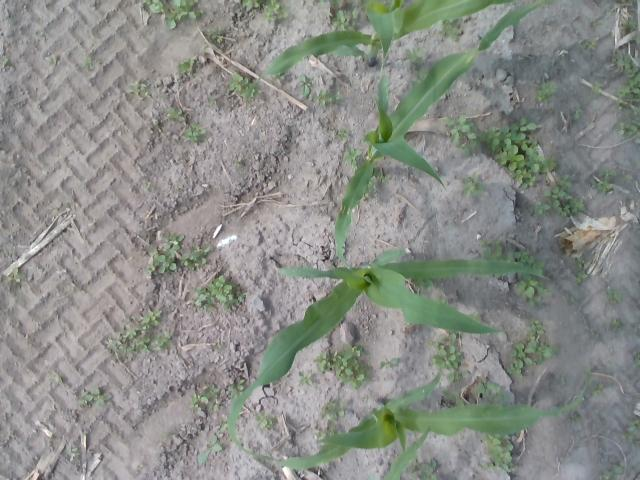Maize: (228, 248, 550, 455), (333, 1, 554, 266), (263, 367, 590, 470), (246, 0, 514, 110), (382, 426, 432, 480)
Weeds: (444, 114, 557, 192), (105, 308, 171, 362), (506, 318, 560, 378), (146, 228, 210, 278), (312, 344, 374, 388), (191, 274, 252, 315), (430, 332, 471, 382), (544, 173, 587, 218), (142, 0, 204, 31), (612, 51, 639, 110), (514, 274, 554, 309), (480, 434, 514, 474), (230, 70, 258, 106), (190, 384, 224, 412), (194, 435, 223, 466), (588, 168, 618, 196), (458, 172, 485, 202), (508, 248, 544, 270), (472, 376, 505, 400), (478, 236, 508, 258), (77, 388, 113, 406), (410, 458, 439, 480), (319, 396, 345, 420), (311, 89, 343, 108), (616, 112, 640, 137), (536, 82, 560, 106), (125, 80, 151, 102), (252, 411, 278, 433), (598, 460, 625, 480), (182, 122, 206, 144), (262, 0, 286, 21), (332, 10, 357, 30), (80, 50, 102, 72), (6, 266, 26, 290), (206, 29, 228, 50), (439, 22, 463, 41), (175, 58, 198, 77), (624, 419, 640, 446), (341, 146, 360, 168), (298, 74, 316, 96), (606, 286, 624, 306), (407, 46, 425, 66), (228, 376, 244, 396), (298, 370, 314, 390), (314, 424, 336, 438), (531, 200, 550, 216), (168, 107, 185, 124), (67, 442, 80, 464), (378, 358, 398, 371), (375, 167, 391, 183), (582, 38, 600, 52), (241, 0, 265, 10), (43, 52, 60, 66), (591, 82, 606, 97), (570, 103, 583, 120), (337, 128, 350, 145), (218, 413, 228, 435), (205, 92, 217, 110), (212, 341, 228, 354), (592, 383, 606, 397), (609, 319, 623, 333), (151, 118, 164, 132), (413, 68, 426, 82), (628, 17, 640, 32), (414, 278, 436, 286), (314, 0, 343, 6), (574, 270, 588, 282), (592, 20, 604, 31), (142, 178, 152, 191), (633, 352, 640, 369), (50, 376, 64, 384), (578, 257, 588, 268), (570, 412, 582, 421), (361, 395, 372, 404), (631, 34, 640, 44), (618, 0, 636, 5), (2, 55, 10, 66), (236, 156, 244, 167), (369, 180, 376, 192), (174, 181, 184, 189), (436, 294, 448, 300), (162, 432, 170, 440), (36, 30, 44, 38), (71, 283, 77, 293), (469, 312, 481, 317), (364, 192, 369, 199)
